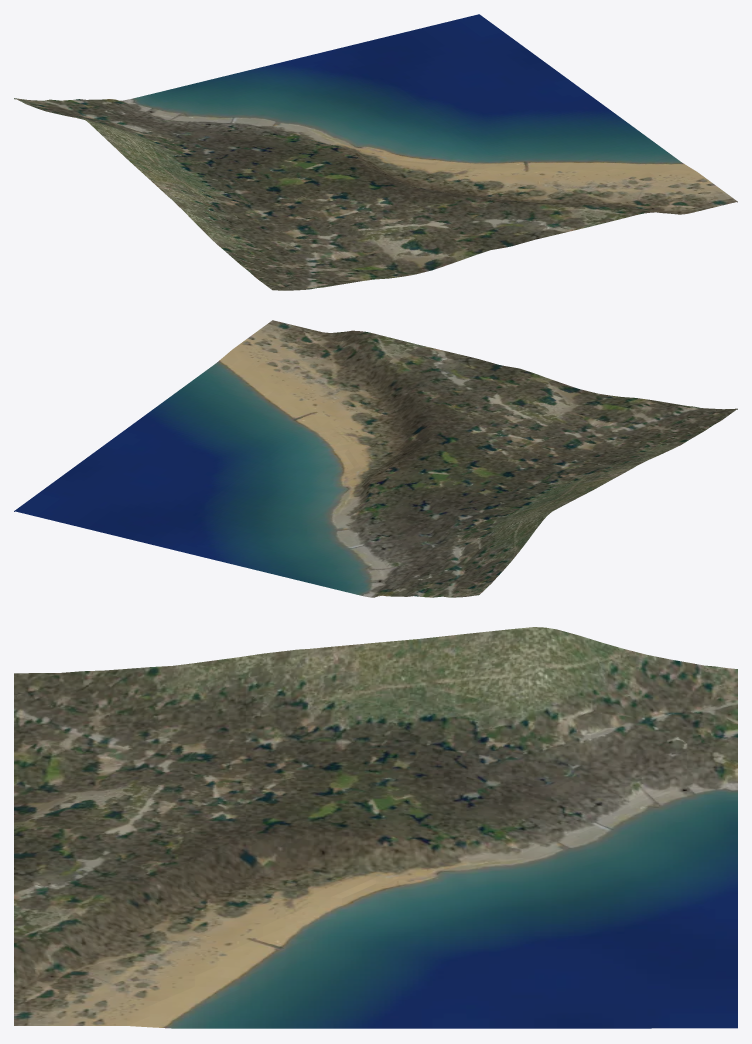
The picture shows the model from 3 angles, top to bottom: view 1: azimuth 30°, elevation 25°; view 2: azimuth 150°, elevation 25°; view 3: azimuth 270°, elevation 25°; orthographic projection. The views are drawn at different scales.
Bounding box in the file's own units: 500 × 62.41 × 481.
Materials: 1 (1 with a texture image).
